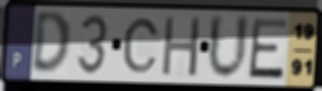3: (74, 13, 111, 77)
C: (121, 16, 161, 75)
D: (29, 10, 73, 77)
E: (246, 17, 290, 81)
H: (160, 14, 203, 79)
U: (206, 12, 251, 83)
